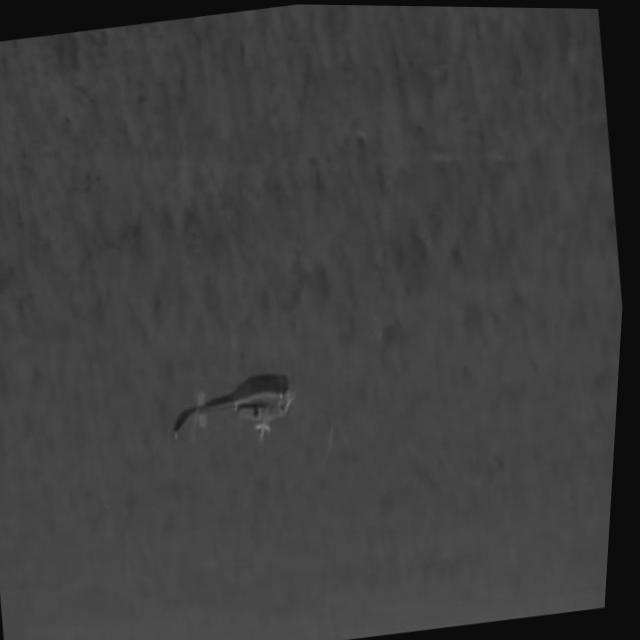helikopter: (158, 333, 335, 470)
